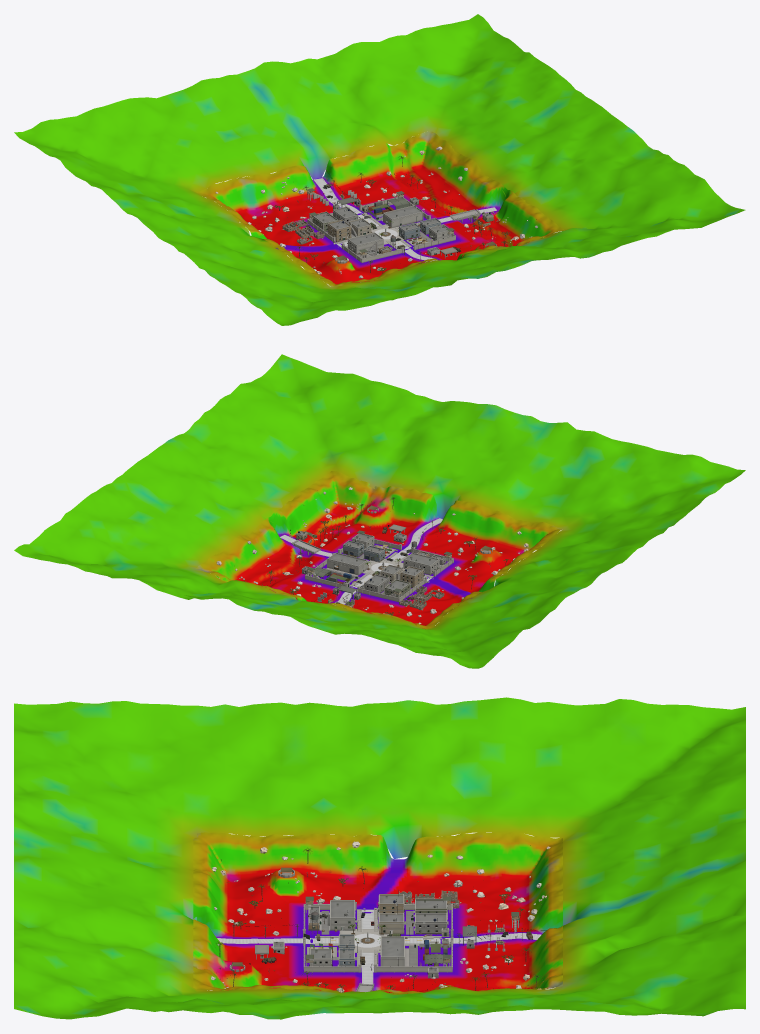
File: Map.glb
3 views of the same model, one above another, from view 1: azimuth 30°, elevation 25°; view 2: azimuth 150°, elevation 25°; view 3: azimuth 270°, elevation 25° (orthographic). The views are drawn at different scales.
Visible parts, largest first — view 1: Terrain_4_0, Terrain_1_0, Terrain_3_0, Terrain_2_0, Terrain_0_-1, Terrain_4_-1, Terrain_4_1, Terrain_2_-1, Terrain_4_2, Terrain_4_3, Terrain_0_0, Terrain_3_-1 (+69 smaller); view 2: Terrain_4_4, Terrain_1_4, Terrain_2_4, Terrain_3_4, Terrain_4_5, Terrain_0_5, Terrain_1_5, Terrain_4_3, Terrain_5_4, Terrain_2_5, Terrain_5_0, Terrain_4_2 (+65 smaller); view 3: Terrain_0_2, Terrain_0_1, Terrain_0_3, Terrain_-1_0, Terrain_-1_4, Terrain_0_4, Terrain_0_0, Terrain_-1_1, Terrain_-1_2, Terrain_-1_3, Terrain_-2_0, Terrain_0_5 (+74 smaller).
Part boxes in pixels (x1,y1,x2,y2): Terrain_4_0: (378,103,475,173); Terrain_1_0: (217,146,304,217); Terrain_3_0: (324,124,416,188); Terrain_2_0: (271,135,361,202); Terrain_0_-1: (124,119,216,176); Terrain_4_-1: (347,66,439,124); Terrain_4_1: (417,134,506,198); Terrain_2_-1: (240,90,323,146); Terrain_4_2: (449,154,537,225); Terrain_4_3: (482,181,568,246); Terrain_0_0: (155,160,249,217); Terrain_3_-1: (293,84,377,135); Terrain_4_4: (284,448,381,515); Terrain_1_4: (457,485,542,553); Terrain_2_4: (402,475,488,540); Terrain_3_4: (344,464,435,526); Terrain_4_5: (320,408,412,463); Terrain_0_5: (543,462,635,512); Terrain_1_5: (489,446,573,505); Terrain_4_3: (253,476,343,540); Terrain_5_4: (230,414,319,475); Terrain_2_5: (436,432,519,484); Terrain_5_0: (101,510,190,563); Terrain_4_2: (222,498,310,561); Terrain_0_2: (333,803,422,886); Terrain_0_1: (422,803,510,887); Terrain_0_3: (246,803,337,882); Terrain_-1_0: (506,743,605,806); Terrain_-1_4: (154,744,253,807); Terrain_0_4: (154,799,253,883); Terrain_0_0: (506,805,605,886); Terrain_-1_1: (422,739,506,806); Terrain_-1_2: (337,739,422,806); Terrain_-1_3: (253,745,337,808); Terrain_-2_0: (506,697,605,748); Terrain_0_5: (70,778,154,852).
Size of the model in its own units: 416 by 62.65 by 416.
